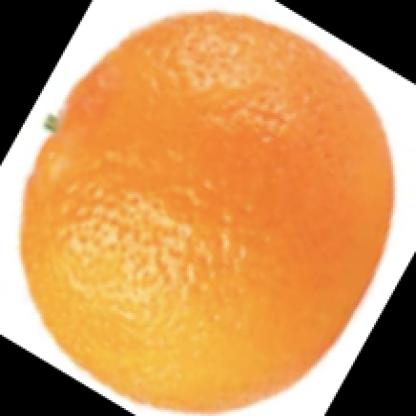fresh: (20, 11, 394, 416)
